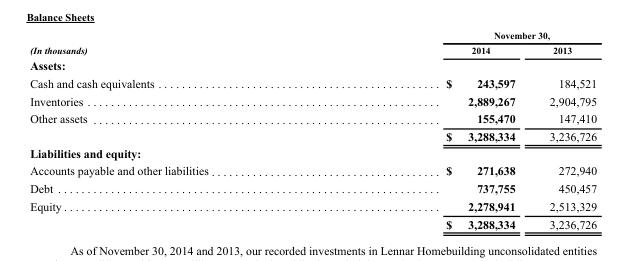table: (29, 29, 596, 230)
table column: (29, 29, 326, 230), (326, 29, 531, 230), (531, 29, 596, 230)
table column header: (29, 29, 596, 56)
table projected row header: (29, 56, 596, 74), (29, 144, 596, 161)
table row: (29, 56, 596, 74), (29, 91, 596, 109), (29, 109, 596, 127), (29, 161, 596, 179), (29, 179, 596, 197), (29, 74, 596, 91), (29, 127, 596, 144), (29, 144, 596, 161), (29, 197, 596, 214), (29, 214, 596, 230), (29, 42, 596, 56), (29, 29, 596, 42)
table spanning cell: (29, 29, 326, 56), (326, 29, 596, 42)
